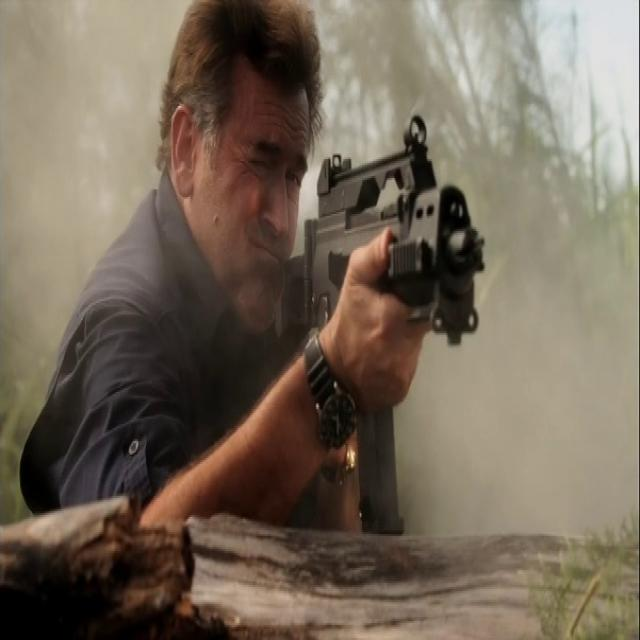rifle: (295, 83, 491, 559)
